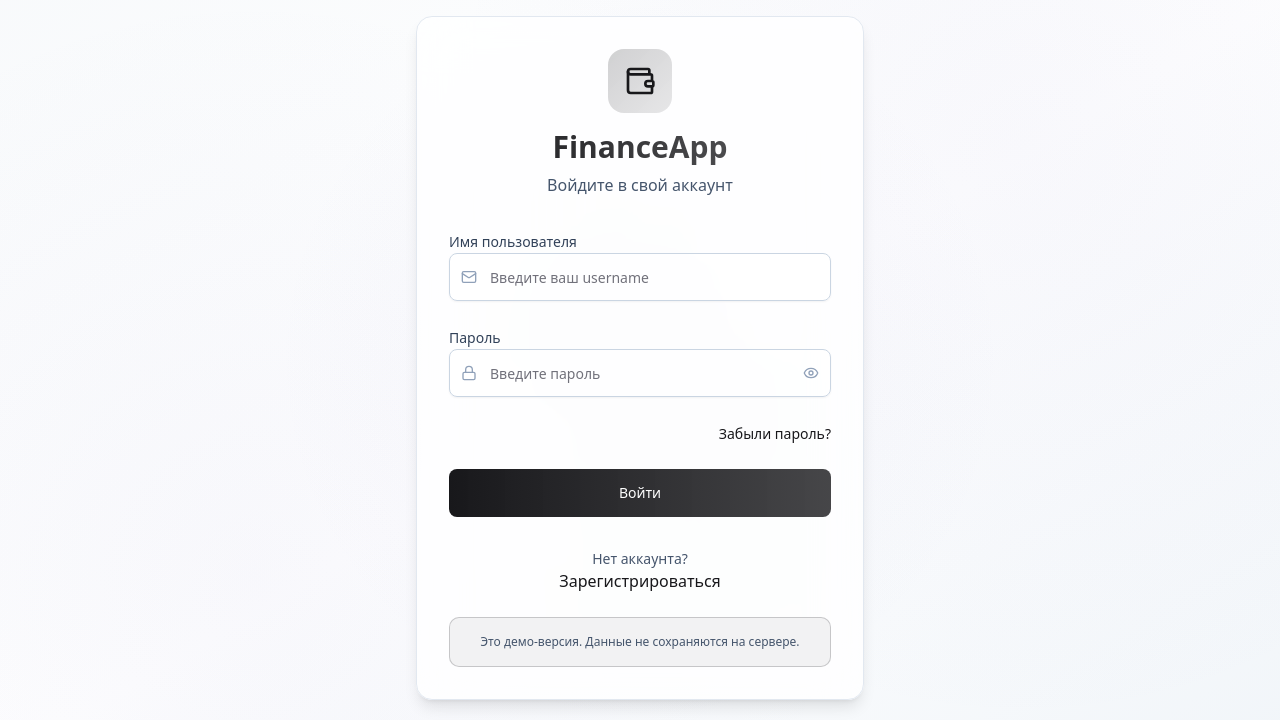
<Login /> › показывает серверную ошибку
Type "a" into the field with placeholder "Введите ваш username" at [640, 277], box [449,253,831,301]
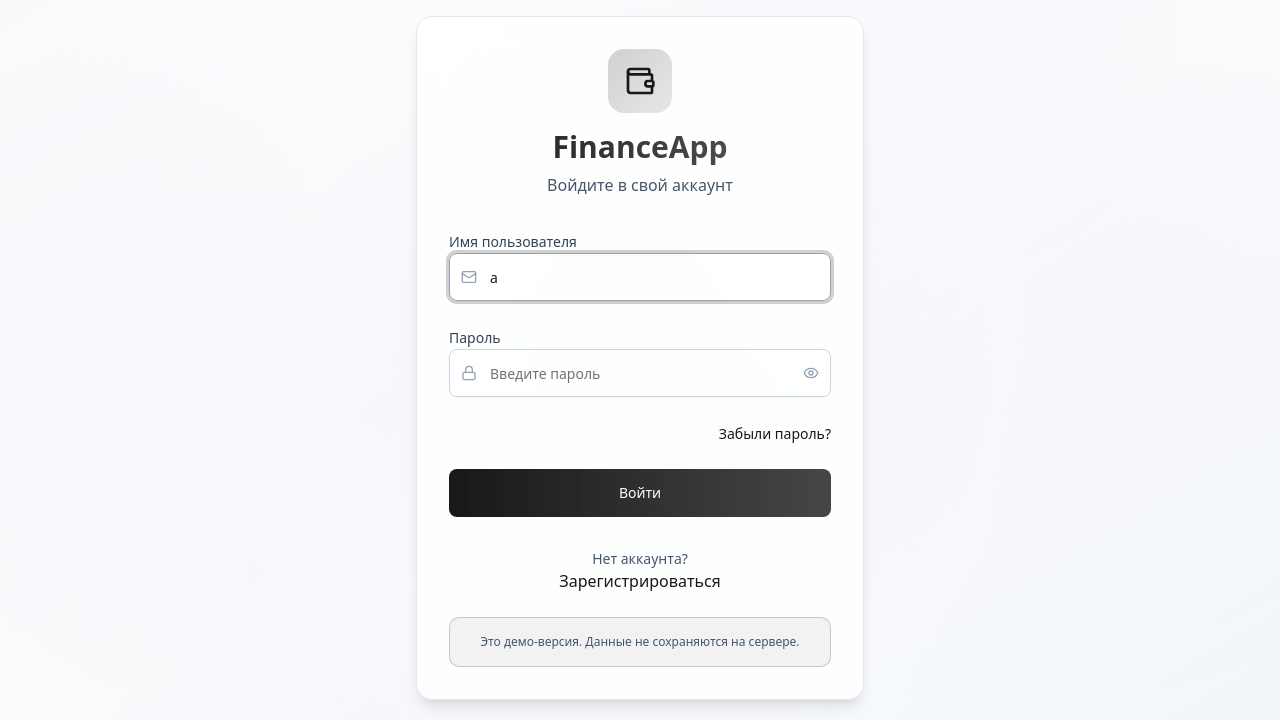
Type "b" into the password field with placeholder "Введите пароль" at [640, 373], box [449,349,831,397]
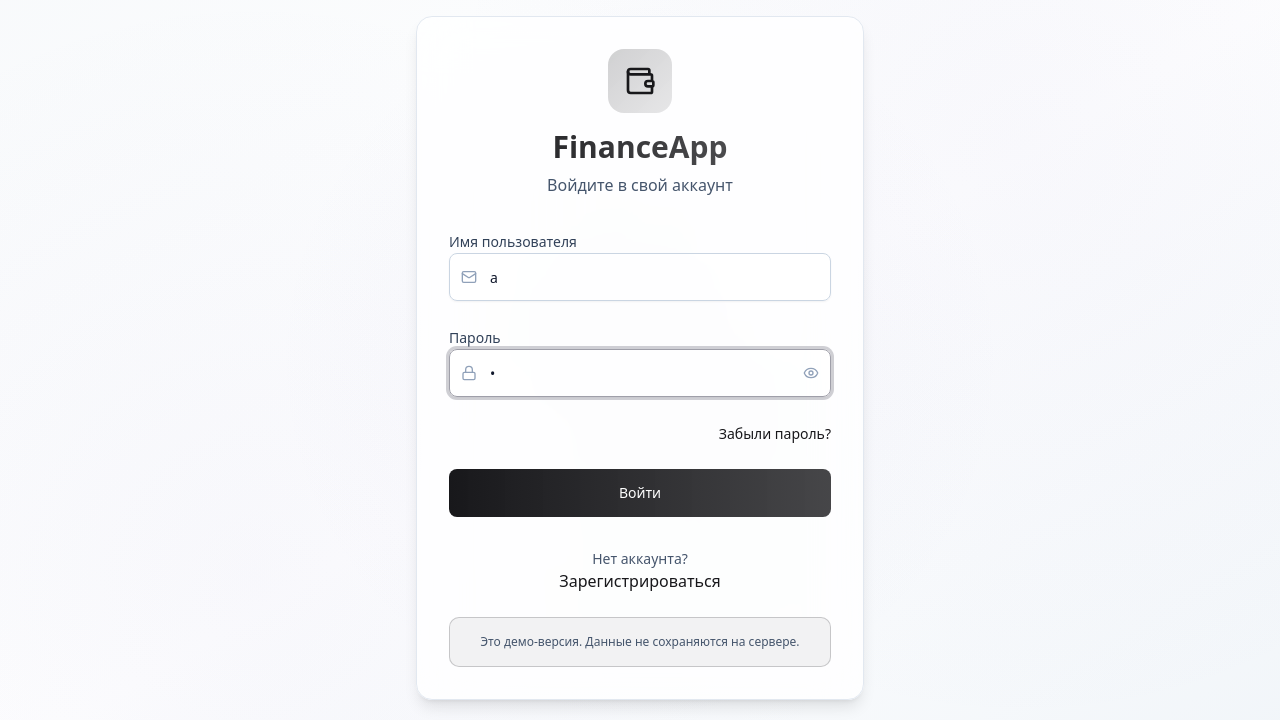
Click the button "Войти" at [640, 493], box [449,469,831,517]
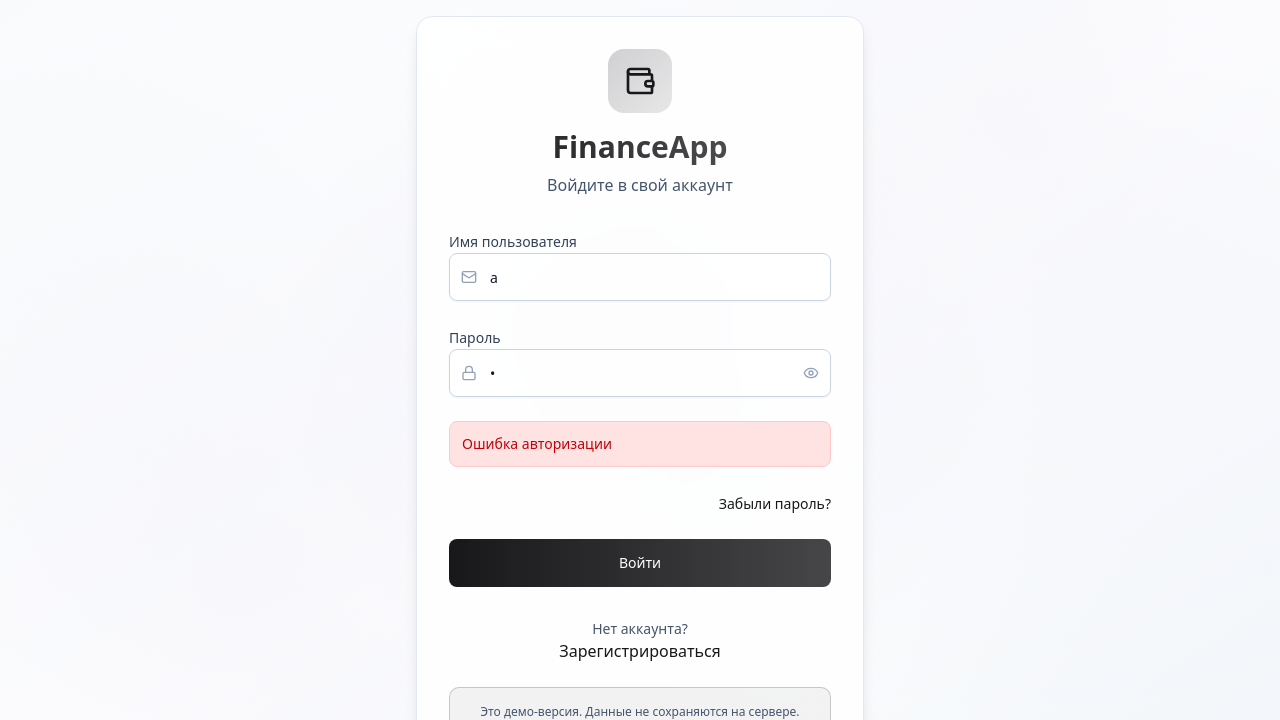
Expected: the text "Ошибка авторизации" is shown, [449,421,831,467]
